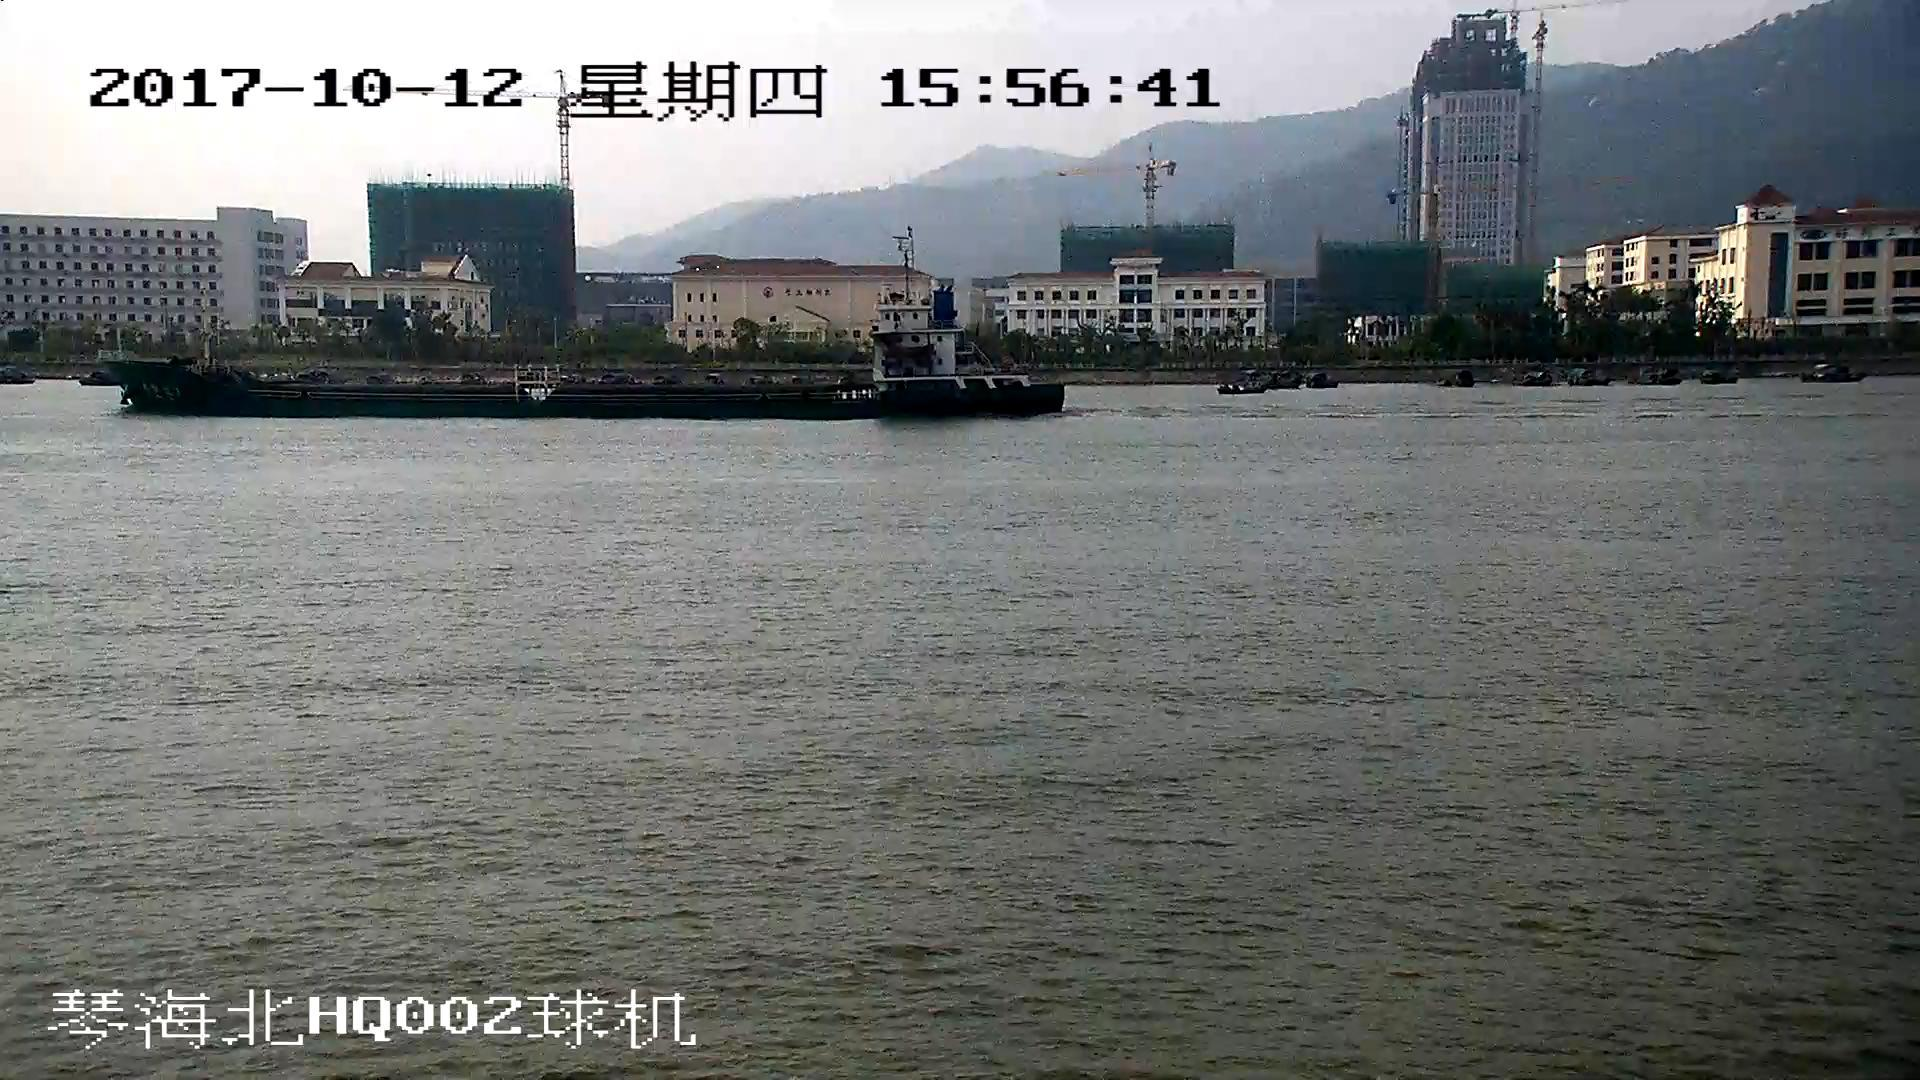Ship: (88, 284, 1065, 425)
